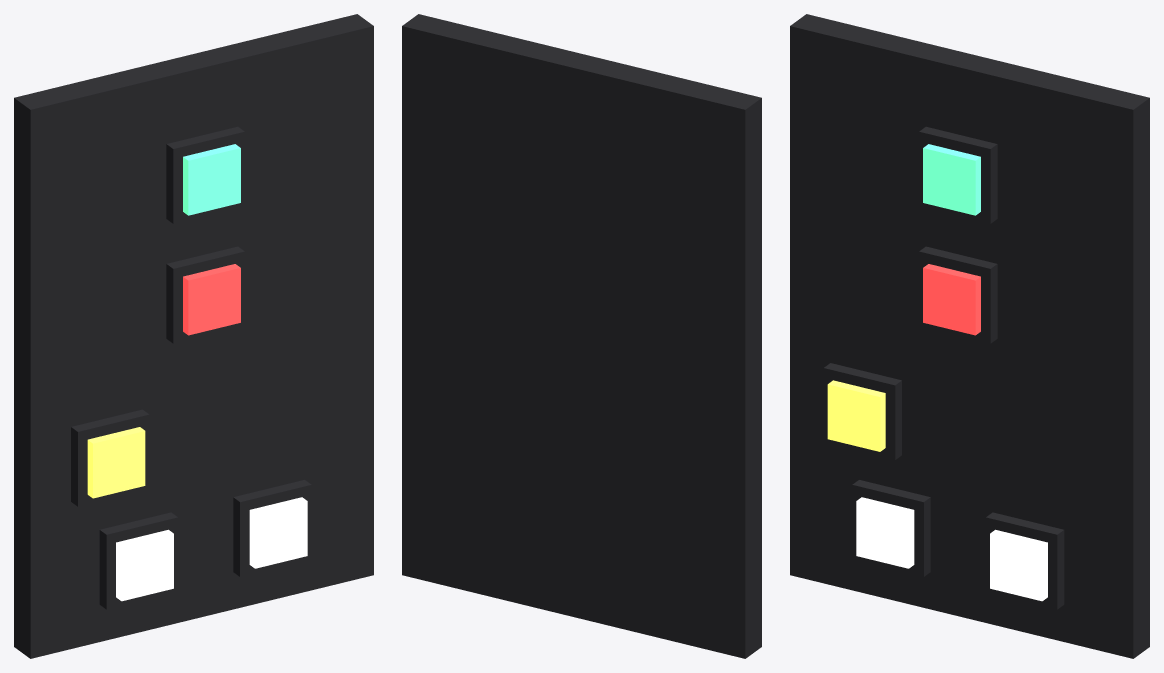
Rendered from sig_schirm_ks.gltf.
3 views of the same model, side by side, from view 1: azimuth 30°, elevation 25°; view 2: azimuth 150°, elevation 25°; view 3: azimuth 330°, elevation 25° (orthographic).
Parts seen in each view (by area): view 1: schirm, lamp_zs1, lamp_yellow, lamp_green, lamp_red; view 2: schirm; view 3: schirm, lamp_zs1, lamp_yellow, lamp_green, lamp_red.
Part boxes in pixels (x1,y1,x2,y2): schirm: [14, 14, 373, 658]; lamp_zs1: [116, 497, 307, 601]; lamp_yellow: [87, 427, 145, 498]; lamp_green: [183, 144, 240, 215]; lamp_red: [183, 264, 240, 335]; schirm: [402, 14, 761, 658]; schirm: [790, 14, 1149, 658]; lamp_zs1: [856, 497, 1047, 601]; lamp_yellow: [827, 380, 885, 451]; lamp_green: [923, 144, 980, 215]; lamp_red: [923, 264, 980, 335].
Bounding box in the file's own units: 0.72 × 1.1 × 0.105.
